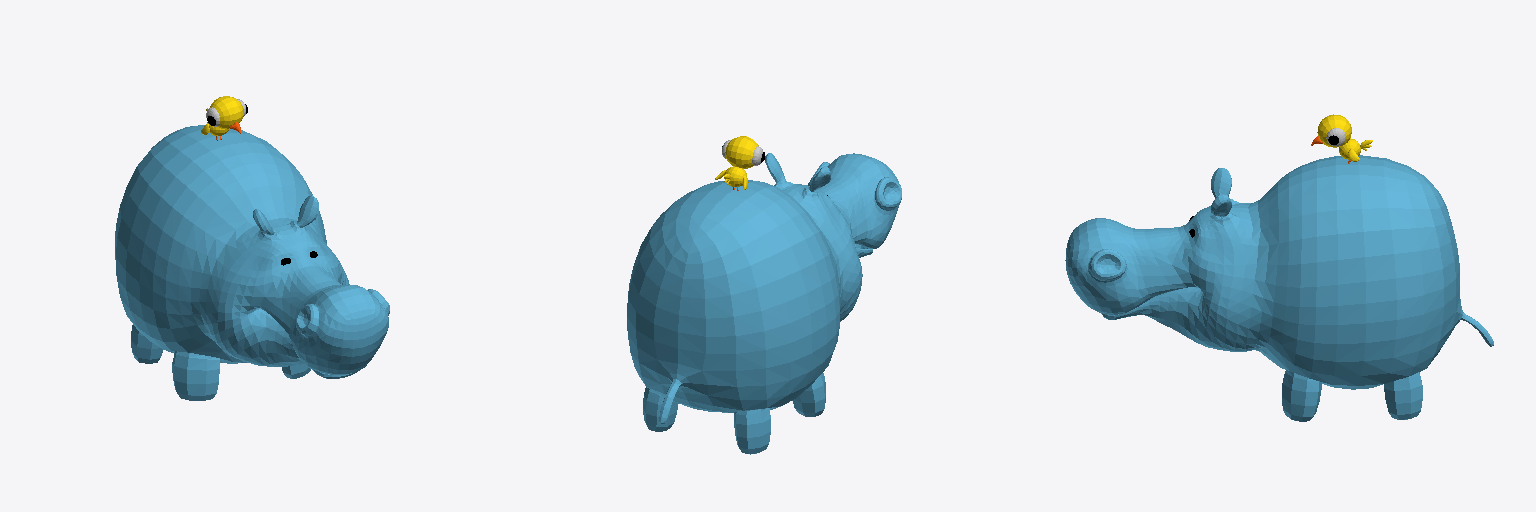
File: hippo2.obj
3 views of the same model, side by side, from view 1: azimuth 30°, elevation 25°; view 2: azimuth 150°, elevation 25°; view 3: azimuth 270°, elevation 25° (orthographic).
Visible parts, largest first — view 1: Hippo_OBJ; view 2: Hippo_OBJ; view 3: Hippo_OBJ.
Part boxes in pixels (x1,y1,x2,y2): Hippo_OBJ: (115, 96, 389, 400); Hippo_OBJ: (627, 136, 901, 454); Hippo_OBJ: (1065, 114, 1493, 421).
Bounding box in the file's own units: 7.54 × 11.39 × 15.94.